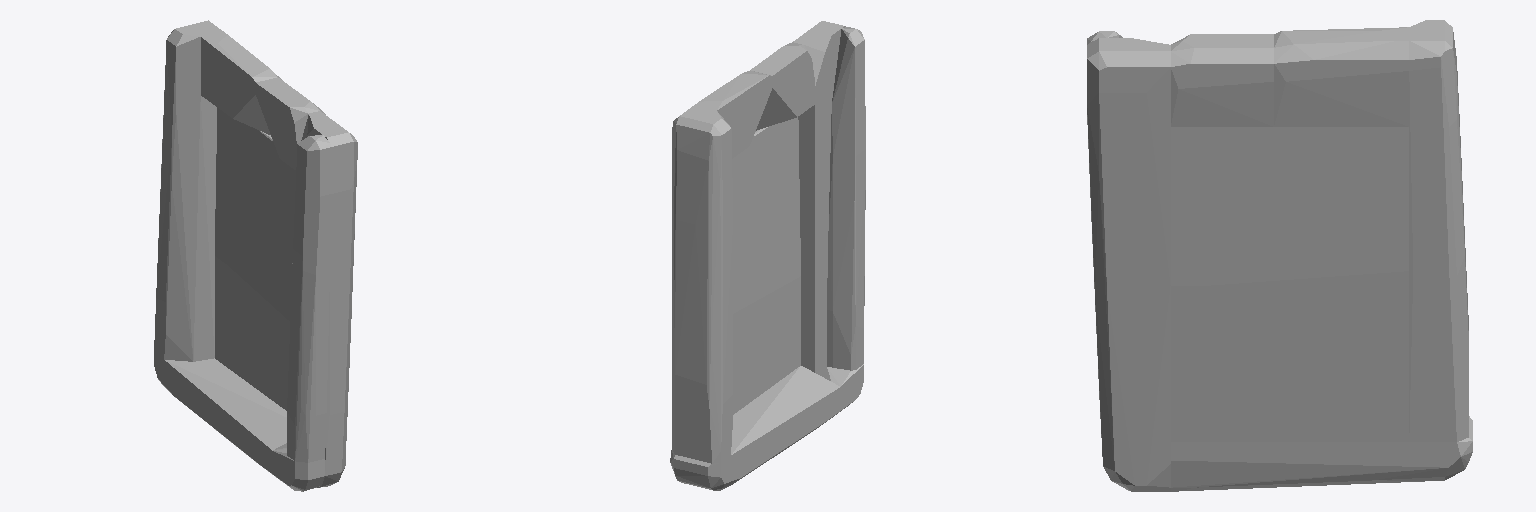
URDF robot description (root):
<robot name="root">
  <link name="link_thingiverse~flat_lid_3106891_convex_piece_0">
    <inertial>
      <origin rpy="0 0 0" xyz="0 0 0"/>
      <mass value="3.70E-02"/>
      <inertia ixx="7.77E-05" ixy="-1.50E-06" ixz="5.57E-07" iyy="3.62E-05" iyz="-6.68E-06" izz="4.20E-05"/>
    </inertial>
    <visual>
      <origin rpy="0 0 0" xyz="0 0 0"/>
      <geometry>
        <mesh filename="thingiverse~flat_lid_3106891_convex_piece_0.obj" scale="1.0000E+00 1.0000E+00 1.0000E+00"/>
      </geometry>
      <material name="">
        <color rgba="7.50E-01 7.50E-01 7.50E-01 1"/>
      </material>
    </visual>
    <collision>
      <origin rpy="0 0 0" xyz="0 0 0"/>
      <geometry>
        <mesh filename="thingiverse~flat_lid_3106891_convex_piece_0.obj" scale="1.0000E+00 1.0000E+00 1.0000E+00"/>
      </geometry>
    </collision>
  </link>
  <link name="link_thingiverse~flat_lid_3106891_convex_piece_1">
    <inertial>
      <origin rpy="0 0 0" xyz="0 0 0"/>
      <mass value="2.71E-02"/>
      <inertia ixx="7.17E-05" ixy="-7.13E-07" ixz="3.97E-06" iyy="6.11E-05" iyz="-9.45E-06" izz="1.21E-05"/>
    </inertial>
    <visual>
      <origin rpy="0 0 0" xyz="0 0 0"/>
      <geometry>
        <mesh filename="thingiverse~flat_lid_3106891_convex_piece_1.obj" scale="1.0000E+00 1.0000E+00 1.0000E+00"/>
      </geometry>
      <material name="">
        <color rgba="7.50E-01 7.50E-01 7.50E-01 1"/>
      </material>
    </visual>
    <collision>
      <origin rpy="0 0 0" xyz="0 0 0"/>
      <geometry>
        <mesh filename="thingiverse~flat_lid_3106891_convex_piece_1.obj" scale="1.0000E+00 1.0000E+00 1.0000E+00"/>
      </geometry>
    </collision>
  </link>
  <joint name="link_thingiverse~flat_lid_3106891_convex_piece_1_joint" type="fixed">
    <origin rpy="0 0 0" xyz="0 0 0"/>
    <parent link="link_thingiverse~flat_lid_3106891_convex_piece_0"/>
    <child link="link_thingiverse~flat_lid_3106891_convex_piece_1"/>
  </joint>
  <link name="link_thingiverse~flat_lid_3106891_convex_piece_2">
    <inertial>
      <origin rpy="0 0 0" xyz="0 0 0"/>
      <mass value="2.64E-03"/>
      <inertia ixx="8.95E-06" ixy="5.91E-07" ixz="8.96E-07" iyy="6.35E-06" iyz="4.08E-06" izz="2.89E-06"/>
    </inertial>
    <visual>
      <origin rpy="0 0 0" xyz="0 0 0"/>
      <geometry>
        <mesh filename="thingiverse~flat_lid_3106891_convex_piece_2.obj" scale="1.0000E+00 1.0000E+00 1.0000E+00"/>
      </geometry>
      <material name="">
        <color rgba="7.50E-01 7.50E-01 7.50E-01 1"/>
      </material>
    </visual>
    <collision>
      <origin rpy="0 0 0" xyz="0 0 0"/>
      <geometry>
        <mesh filename="thingiverse~flat_lid_3106891_convex_piece_2.obj" scale="1.0000E+00 1.0000E+00 1.0000E+00"/>
      </geometry>
    </collision>
  </link>
  <joint name="link_thingiverse~flat_lid_3106891_convex_piece_2_joint" type="fixed">
    <origin rpy="0 0 0" xyz="0 0 0"/>
    <parent link="link_thingiverse~flat_lid_3106891_convex_piece_1"/>
    <child link="link_thingiverse~flat_lid_3106891_convex_piece_2"/>
  </joint>
  <link name="link_thingiverse~flat_lid_3106891_convex_piece_3">
    <inertial>
      <origin rpy="0 0 0" xyz="0 0 0"/>
      <mass value="1.38E-02"/>
      <inertia ixx="2.95E-05" ixy="3.38E-06" ixz="-1.75E-07" iyy="1.09E-05" iyz="-1.87E-06" izz="1.99E-05"/>
    </inertial>
    <visual>
      <origin rpy="0 0 0" xyz="0 0 0"/>
      <geometry>
        <mesh filename="thingiverse~flat_lid_3106891_convex_piece_3.obj" scale="1.0000E+00 1.0000E+00 1.0000E+00"/>
      </geometry>
      <material name="">
        <color rgba="7.50E-01 7.50E-01 7.50E-01 1"/>
      </material>
    </visual>
    <collision>
      <origin rpy="0 0 0" xyz="0 0 0"/>
      <geometry>
        <mesh filename="thingiverse~flat_lid_3106891_convex_piece_3.obj" scale="1.0000E+00 1.0000E+00 1.0000E+00"/>
      </geometry>
    </collision>
  </link>
  <joint name="link_thingiverse~flat_lid_3106891_convex_piece_3_joint" type="fixed">
    <origin rpy="0 0 0" xyz="0 0 0"/>
    <parent link="link_thingiverse~flat_lid_3106891_convex_piece_2"/>
    <child link="link_thingiverse~flat_lid_3106891_convex_piece_3"/>
  </joint>
  <link name="link_thingiverse~flat_lid_3106891_convex_piece_4">
    <inertial>
      <origin rpy="0 0 0" xyz="0 0 0"/>
      <mass value="3.97E-02"/>
      <inertia ixx="8.21E-05" ixy="-2.88E-06" ixz="1.19E-08" iyy="3.36E-05" iyz="7.92E-06" izz="5.03E-05"/>
    </inertial>
    <visual>
      <origin rpy="0 0 0" xyz="0 0 0"/>
      <geometry>
        <mesh filename="thingiverse~flat_lid_3106891_convex_piece_4.obj" scale="1.0000E+00 1.0000E+00 1.0000E+00"/>
      </geometry>
      <material name="">
        <color rgba="7.50E-01 7.50E-01 7.50E-01 1"/>
      </material>
    </visual>
    <collision>
      <origin rpy="0 0 0" xyz="0 0 0"/>
      <geometry>
        <mesh filename="thingiverse~flat_lid_3106891_convex_piece_4.obj" scale="1.0000E+00 1.0000E+00 1.0000E+00"/>
      </geometry>
    </collision>
  </link>
  <joint name="link_thingiverse~flat_lid_3106891_convex_piece_4_joint" type="fixed">
    <origin rpy="0 0 0" xyz="0 0 0"/>
    <parent link="link_thingiverse~flat_lid_3106891_convex_piece_3"/>
    <child link="link_thingiverse~flat_lid_3106891_convex_piece_4"/>
  </joint>
  <link name="link_thingiverse~flat_lid_3106891_convex_piece_5">
    <inertial>
      <origin rpy="0 0 0" xyz="0 0 0"/>
      <mass value="3.77E-02"/>
      <inertia ixx="2.77E-05" ixy="2.66E-07" ixz="-3.76E-08" iyy="1.91E-05" iyz="-1.14E-07" izz="9.67E-06"/>
    </inertial>
    <visual>
      <origin rpy="0 0 0" xyz="0 0 0"/>
      <geometry>
        <mesh filename="thingiverse~flat_lid_3106891_convex_piece_5.obj" scale="1.0000E+00 1.0000E+00 1.0000E+00"/>
      </geometry>
      <material name="">
        <color rgba="7.50E-01 7.50E-01 7.50E-01 1"/>
      </material>
    </visual>
    <collision>
      <origin rpy="0 0 0" xyz="0 0 0"/>
      <geometry>
        <mesh filename="thingiverse~flat_lid_3106891_convex_piece_5.obj" scale="1.0000E+00 1.0000E+00 1.0000E+00"/>
      </geometry>
    </collision>
  </link>
  <joint name="link_thingiverse~flat_lid_3106891_convex_piece_5_joint" type="fixed">
    <origin rpy="0 0 0" xyz="0 0 0"/>
    <parent link="link_thingiverse~flat_lid_3106891_convex_piece_4"/>
    <child link="link_thingiverse~flat_lid_3106891_convex_piece_5"/>
  </joint>
  <link name="link_thingiverse~flat_lid_3106891_convex_piece_6">
    <inertial>
      <origin rpy="0 0 0" xyz="0 0 0"/>
      <mass value="8.50E-03"/>
      <inertia ixx="2.11E-05" ixy="-1.92E-07" ixz="6.95E-07" iyy="1.92E-05" iyz="-5.41E-06" izz="2.01E-06"/>
    </inertial>
    <visual>
      <origin rpy="0 0 0" xyz="0 0 0"/>
      <geometry>
        <mesh filename="thingiverse~flat_lid_3106891_convex_piece_6.obj" scale="1.0000E+00 1.0000E+00 1.0000E+00"/>
      </geometry>
      <material name="">
        <color rgba="7.50E-01 7.50E-01 7.50E-01 1"/>
      </material>
    </visual>
    <collision>
      <origin rpy="0 0 0" xyz="0 0 0"/>
      <geometry>
        <mesh filename="thingiverse~flat_lid_3106891_convex_piece_6.obj" scale="1.0000E+00 1.0000E+00 1.0000E+00"/>
      </geometry>
    </collision>
  </link>
  <joint name="link_thingiverse~flat_lid_3106891_convex_piece_6_joint" type="fixed">
    <origin rpy="0 0 0" xyz="0 0 0"/>
    <parent link="link_thingiverse~flat_lid_3106891_convex_piece_5"/>
    <child link="link_thingiverse~flat_lid_3106891_convex_piece_6"/>
  </joint>
  <link name="link_thingiverse~flat_lid_3106891_convex_piece_7">
    <inertial>
      <origin rpy="0 0 0" xyz="0 0 0"/>
      <mass value="1.19E-02"/>
      <inertia ixx="3.11E-05" ixy="2.74E-07" ixz="9.60E-07" iyy="2.80E-05" iyz="8.14E-06" izz="3.41E-06"/>
    </inertial>
    <visual>
      <origin rpy="0 0 0" xyz="0 0 0"/>
      <geometry>
        <mesh filename="thingiverse~flat_lid_3106891_convex_piece_7.obj" scale="1.0000E+00 1.0000E+00 1.0000E+00"/>
      </geometry>
      <material name="">
        <color rgba="7.50E-01 7.50E-01 7.50E-01 1"/>
      </material>
    </visual>
    <collision>
      <origin rpy="0 0 0" xyz="0 0 0"/>
      <geometry>
        <mesh filename="thingiverse~flat_lid_3106891_convex_piece_7.obj" scale="1.0000E+00 1.0000E+00 1.0000E+00"/>
      </geometry>
    </collision>
  </link>
  <joint name="link_thingiverse~flat_lid_3106891_convex_piece_7_joint" type="fixed">
    <origin rpy="0 0 0" xyz="0 0 0"/>
    <parent link="link_thingiverse~flat_lid_3106891_convex_piece_6"/>
    <child link="link_thingiverse~flat_lid_3106891_convex_piece_7"/>
  </joint>
</robot>

--- What the picture shows (computed from the rendered views, not written in the file) ---
Views: 3 orthographic renders of the robot side by side, from view 1: azimuth 30°, elevation 25°; view 2: azimuth 150°, elevation 25°; view 3: azimuth 270°, elevation 25°.
Model root with 8 links and 7 joints (7 fixed), rooted at link_thingiverse~flat_lid_3106891_convex_piece_0, posed all joints at 0.
Visible links, largest first — view 1: link_thingiverse~flat_lid_3106891_convex_piece_5, link_thingiverse~flat_lid_3106891_convex_piece_4, link_thingiverse~flat_lid_3106891_convex_piece_3, link_thingiverse~flat_lid_3106891_convex_piece_0, link_thingiverse~flat_lid_3106891_convex_piece_1, link_thingiverse~flat_lid_3106891_convex_piece_7, link_thingiverse~flat_lid_3106891_convex_piece_6, link_thingiverse~flat_lid_3106891_convex_piece_2; view 2: link_thingiverse~flat_lid_3106891_convex_piece_4, link_thingiverse~flat_lid_3106891_convex_piece_5, link_thingiverse~flat_lid_3106891_convex_piece_3, link_thingiverse~flat_lid_3106891_convex_piece_0, link_thingiverse~flat_lid_3106891_convex_piece_1, link_thingiverse~flat_lid_3106891_convex_piece_6, link_thingiverse~flat_lid_3106891_convex_piece_7, link_thingiverse~flat_lid_3106891_convex_piece_2; view 3: link_thingiverse~flat_lid_3106891_convex_piece_5, link_thingiverse~flat_lid_3106891_convex_piece_0, link_thingiverse~flat_lid_3106891_convex_piece_4, link_thingiverse~flat_lid_3106891_convex_piece_7, link_thingiverse~flat_lid_3106891_convex_piece_1, link_thingiverse~flat_lid_3106891_convex_piece_6.
Link boxes in pixels (bbox=[...]): link_thingiverse~flat_lid_3106891_convex_piece_5: bbox=[215, 107, 295, 410]; link_thingiverse~flat_lid_3106891_convex_piece_4: bbox=[154, 20, 221, 361]; link_thingiverse~flat_lid_3106891_convex_piece_3: bbox=[287, 135, 331, 462]; link_thingiverse~flat_lid_3106891_convex_piece_0: bbox=[301, 111, 357, 487]; link_thingiverse~flat_lid_3106891_convex_piece_1: bbox=[154, 353, 286, 477]; link_thingiverse~flat_lid_3106891_convex_piece_7: bbox=[201, 31, 281, 134]; link_thingiverse~flat_lid_3106891_convex_piece_6: bbox=[256, 77, 325, 169]; link_thingiverse~flat_lid_3106891_convex_piece_2: bbox=[272, 448, 324, 491]; link_thingiverse~flat_lid_3106891_convex_piece_4: bbox=[672, 105, 732, 463]; link_thingiverse~flat_lid_3106891_convex_piece_5: bbox=[732, 117, 800, 414]; link_thingiverse~flat_lid_3106891_convex_piece_3: bbox=[827, 27, 865, 370]; link_thingiverse~flat_lid_3106891_convex_piece_0: bbox=[793, 21, 845, 375]; link_thingiverse~flat_lid_3106891_convex_piece_1: bbox=[670, 366, 840, 490]; link_thingiverse~flat_lid_3106891_convex_piece_6: bbox=[751, 42, 814, 130]; link_thingiverse~flat_lid_3106891_convex_piece_7: bbox=[695, 70, 772, 158]; link_thingiverse~flat_lid_3106891_convex_piece_2: bbox=[822, 364, 863, 414]; link_thingiverse~flat_lid_3106891_convex_piece_5: bbox=[1171, 127, 1408, 441]; link_thingiverse~flat_lid_3106891_convex_piece_0: bbox=[1087, 38, 1170, 491]; link_thingiverse~flat_lid_3106891_convex_piece_4: bbox=[1409, 20, 1468, 441]; link_thingiverse~flat_lid_3106891_convex_piece_7: bbox=[1274, 27, 1408, 126]; link_thingiverse~flat_lid_3106891_convex_piece_1: bbox=[1171, 416, 1472, 491]; link_thingiverse~flat_lid_3106891_convex_piece_6: bbox=[1171, 34, 1273, 126].
Bounding box of the posed robot: 0.0178 × 0.0865 × 0.1124 m (x, y, z).
Meshes: 8 distinct files referenced, 8 mesh visuals loaded (8 OBJ).
